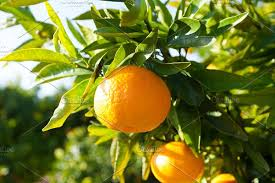orange: (87, 61, 173, 135), (148, 139, 205, 183)
